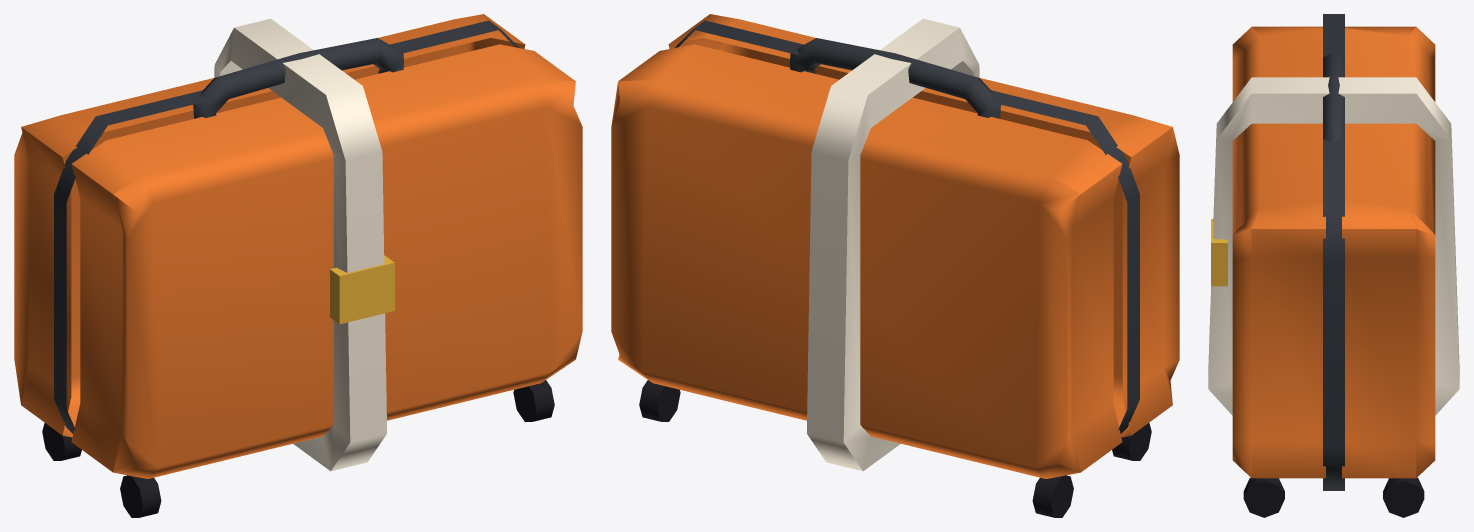
The model's file is Maleta1.fbx.
The picture shows the model from 3 angles, left to right: view 1: azimuth 30°, elevation 25°; view 2: azimuth 150°, elevation 25°; view 3: azimuth 270°, elevation 25°; orthographic projection. The views are drawn at different scales.
Visible parts, largest first — view 1: Maleta1; view 2: Maleta1; view 3: Maleta1.
Part boxes in pixels (x1,y1,x2,y2): Maleta1: (14,14,582,517); Maleta1: (611,14,1179,517); Maleta1: (1208,14,1459,517).
Size of the model in its own units: 1.55 by 1.2 by 0.7917.
1 material, 1 textured.
